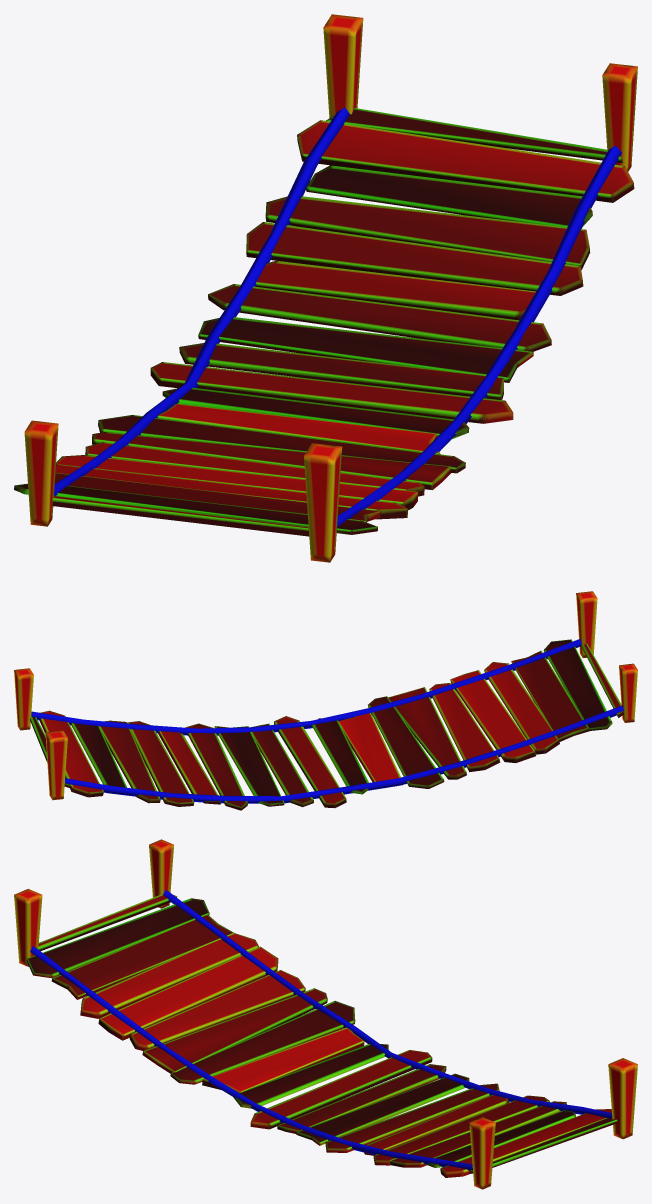
The model's file is SM_Bridge_02.FBX.
3 renders of one model, top to bottom at view 1: azimuth 30°, elevation 25°; view 2: azimuth 150°, elevation 25°; view 3: azimuth 270°, elevation 25°, orthographic. The views are drawn at different scales.
Parts seen in each view (by area): view 1: SM_Bridge_02; view 2: SM_Bridge_02; view 3: SM_Bridge_02.
Part boxes in pixels (left/top/right/bottom): SM_Bridge_02: left=14, top=14, right=637, bottom=562; SM_Bridge_02: left=14, top=591, right=637, bottom=810; SM_Bridge_02: left=14, top=839, right=637, bottom=1189.
Size of what is drawn, in the model's own units: 1120 by 1091 by 230.
